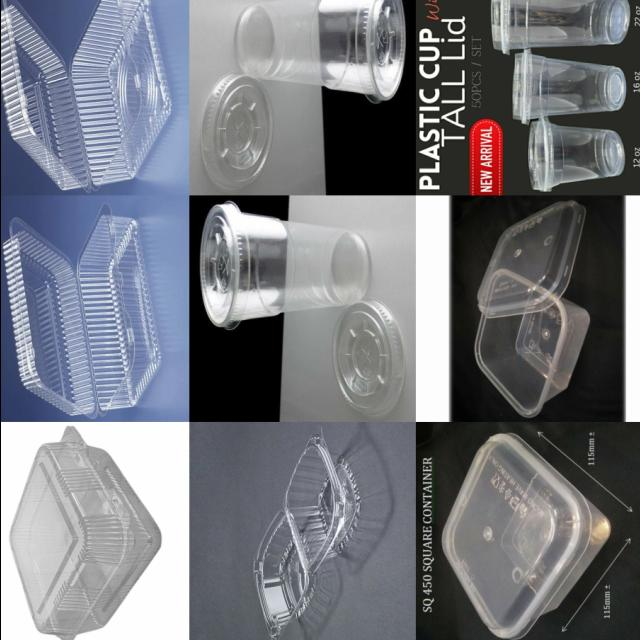plastik: (441, 433, 610, 639), (2, 205, 160, 419), (0, 0, 170, 192), (8, 427, 160, 640), (252, 427, 358, 640), (199, 202, 369, 330), (234, 0, 404, 103), (474, 270, 588, 416), (477, 201, 584, 318), (511, 50, 625, 124), (199, 72, 271, 189), (332, 298, 403, 416), (490, 0, 629, 54), (527, 118, 623, 192)
